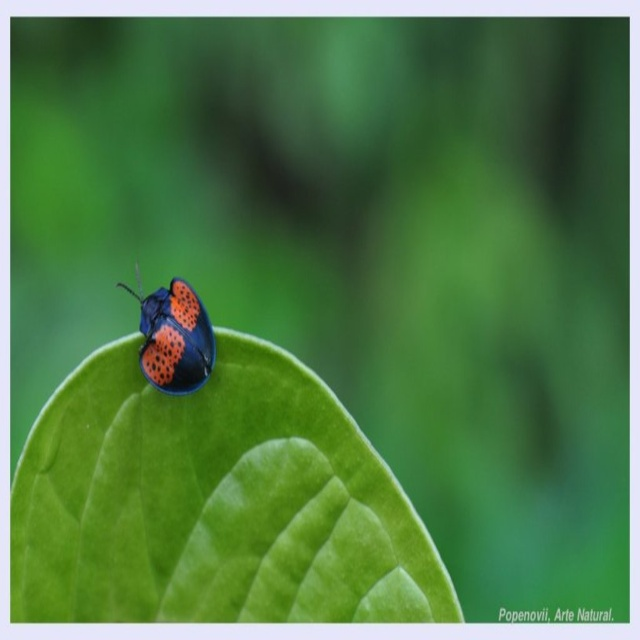Ladybug: (115, 258, 216, 394)
